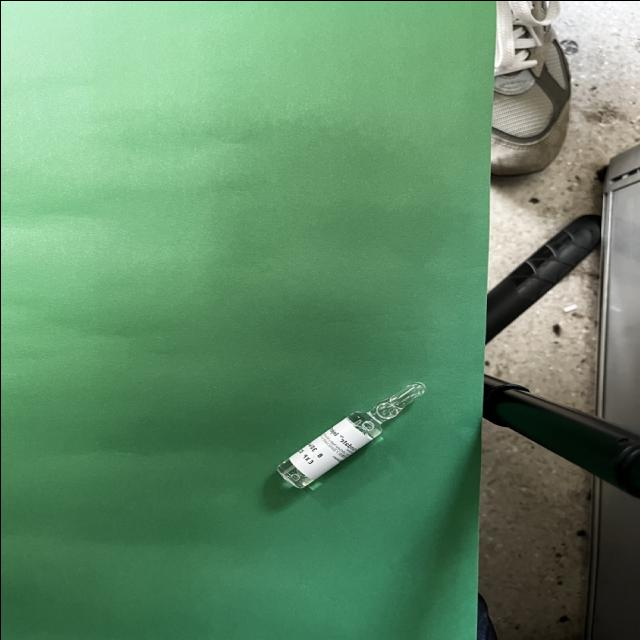Ampoules: (277, 382, 425, 488)
